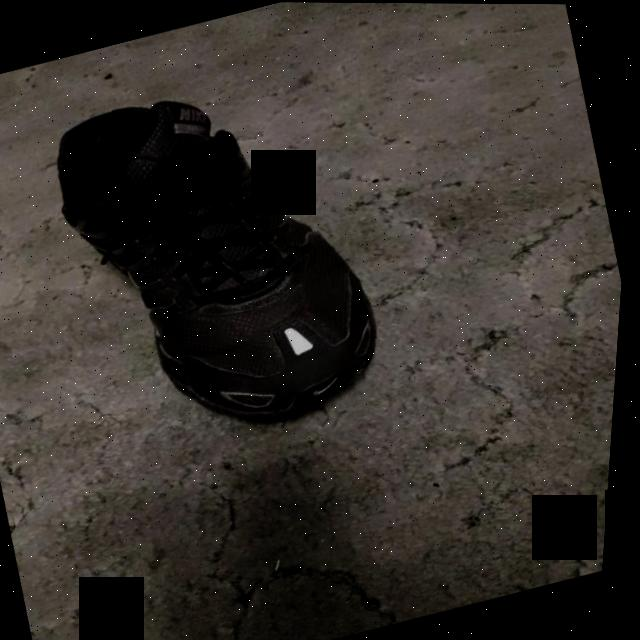shoe: (29, 53, 412, 463)
